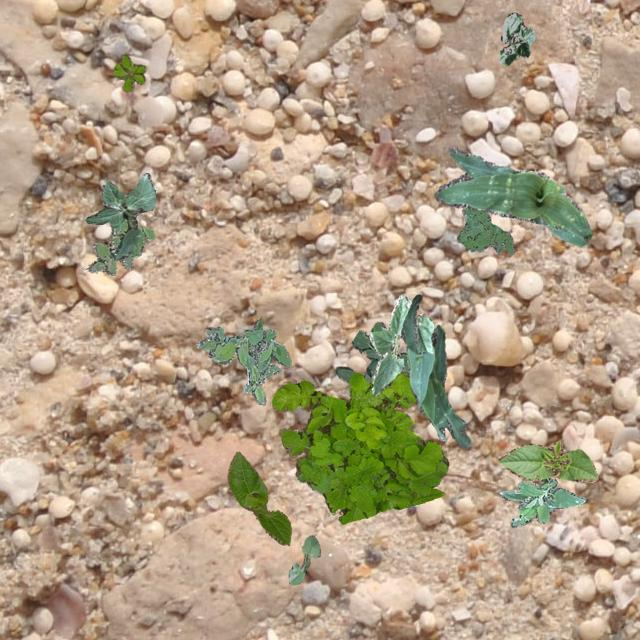crop: (434, 146, 590, 246), (400, 294, 470, 448), (368, 294, 433, 394), (84, 172, 154, 258), (227, 450, 290, 544), (498, 439, 596, 482), (496, 12, 534, 64), (288, 534, 318, 584)
weed: (272, 369, 448, 524), (194, 317, 290, 403), (333, 321, 407, 384), (500, 478, 584, 526), (85, 218, 154, 274), (456, 206, 514, 254), (112, 54, 144, 90)
